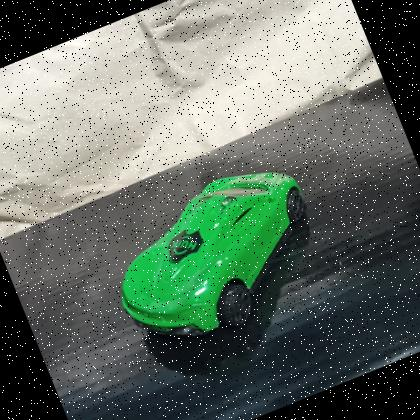Car: (86, 142, 350, 374)
